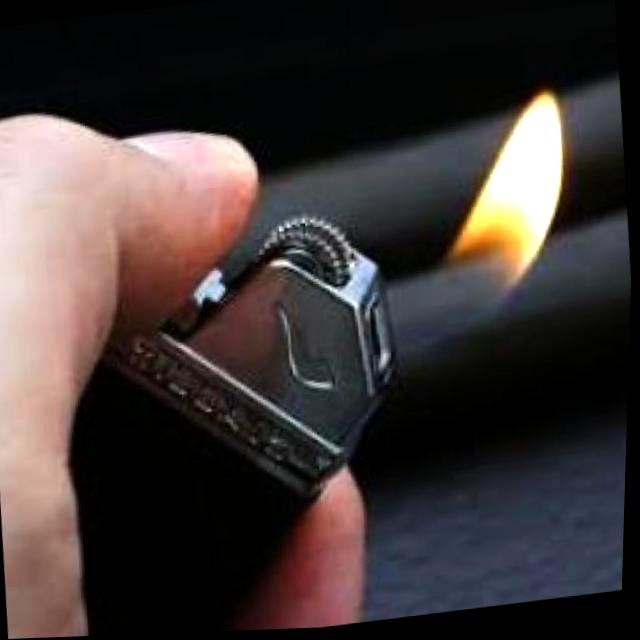fire: (433, 93, 579, 313)
